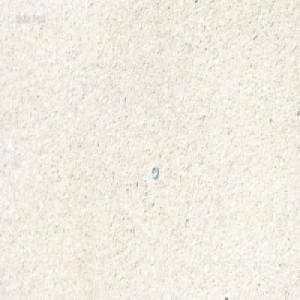Washer: (150, 165, 158, 180)
